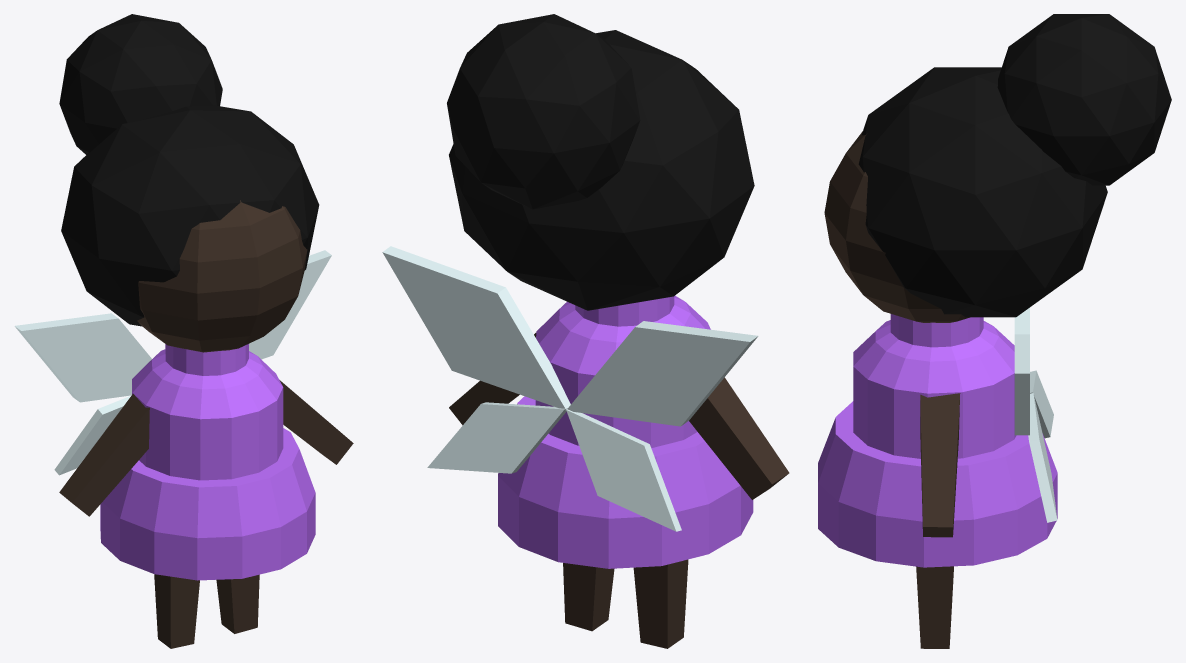
The model's file is PURPLENymph2.fbx.
The picture shows the model from 3 angles, left to right: view 1: azimuth 30°, elevation 25°; view 2: azimuth 150°, elevation 25°; view 3: azimuth 270°, elevation 25°; orthographic projection. The views are drawn at different scales.
Visible parts, largest first — view 1: Body, Hair, Head, Icosphere, Wing2, Arm, Leg, Armm, Leg.001, Wing1, Wingg2; view 2: Hair, Body, Icosphere, Wing1, Wing2, Wingg2, Wingg1, Arm, Leg, Leg.001, Armm; view 3: Hair, Body, Icosphere, Head, Armm, Leg.001, Wingg1, Wing1, Wingg2.
Part boxes in pixels (x1,y1,x2,y2): Body: [100, 344, 315, 580]; Hair: [61, 105, 319, 326]; Head: [137, 200, 307, 352]; Icosphere: [59, 14, 222, 154]; Wing2: [14, 313, 151, 402]; Arm: [59, 394, 149, 516]; Leg: [154, 574, 199, 648]; Armm: [279, 380, 353, 464]; Leg.001: [216, 574, 259, 633]; Wing1: [249, 250, 331, 359]; Wingg2: [54, 395, 131, 475]; Hair: [449, 30, 754, 310]; Body: [498, 295, 753, 568]; Icosphere: [447, 14, 640, 209]; Wing1: [382, 246, 570, 410]; Wing2: [567, 321, 758, 426]; Wingg2: [566, 409, 681, 531]; Wingg1: [427, 402, 567, 473]; Arm: [689, 377, 789, 499]; Leg: [633, 559, 688, 648]; Leg.001: [563, 563, 614, 631]; Armm: [449, 333, 536, 425]; Hair: [858, 67, 1107, 317]; Body: [818, 314, 1057, 567]; Icosphere: [997, 14, 1171, 185]; Head: [824, 131, 969, 322]; Armm: [920, 393, 960, 537]; Leg.001: [916, 566, 953, 648]; Wingg1: [1028, 393, 1057, 522]; Wing1: [1014, 334, 1029, 435]; Wingg2: [1030, 370, 1053, 438].
Bounding box in the file's own units: 313 × 543 × 286.
